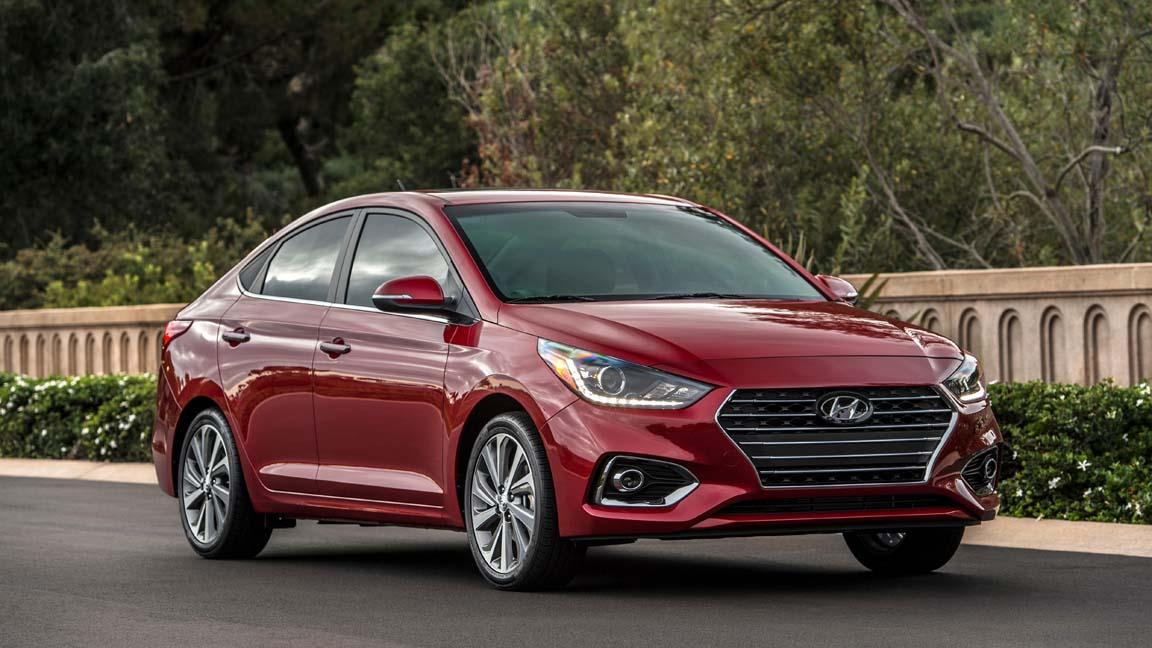Sedan: (143, 170, 1040, 617)
